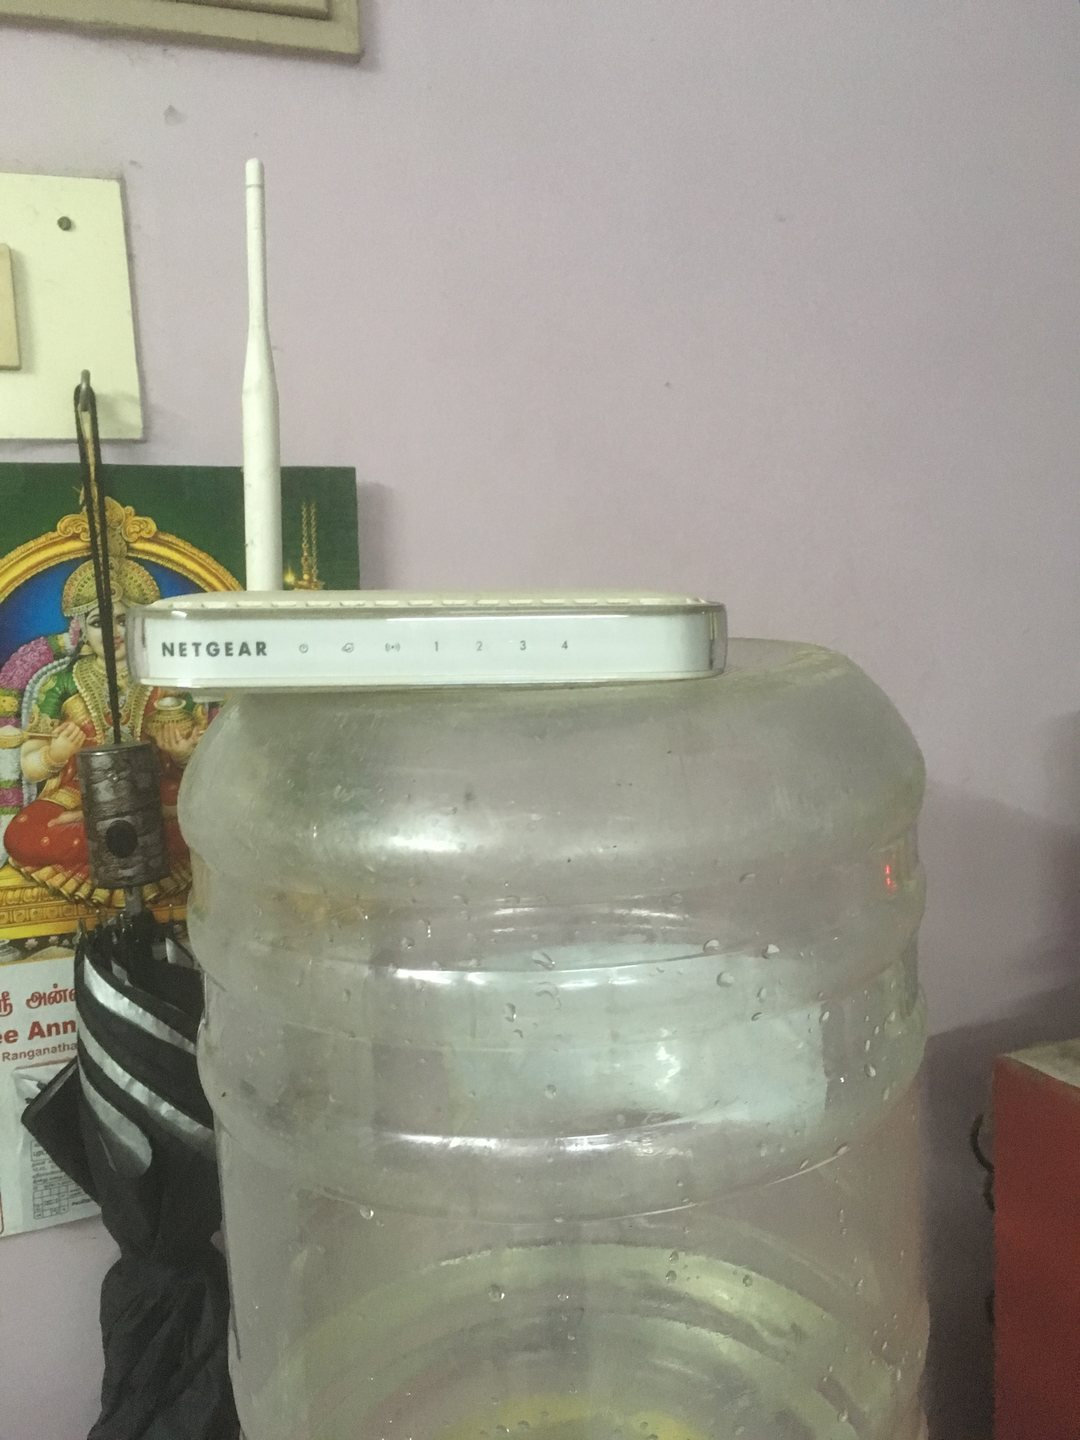NETGEAR: (158, 637, 271, 662)
modem: (125, 594, 739, 689)
